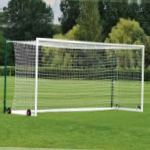goals: (10, 36, 148, 118)
